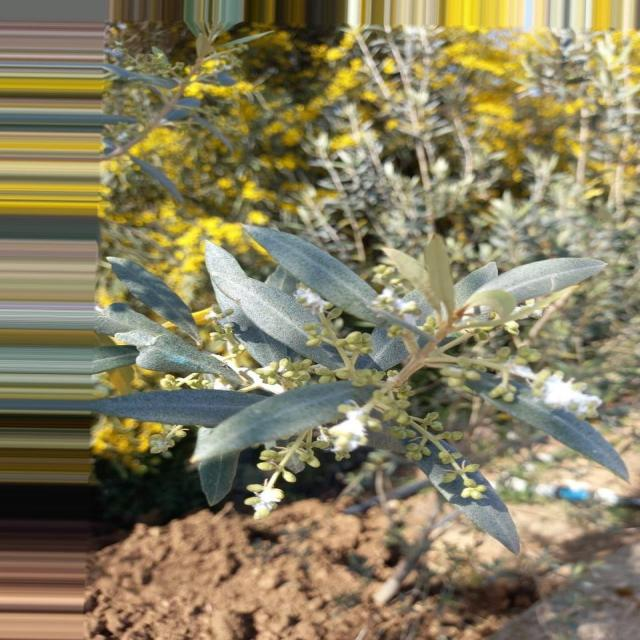Psyllid: (512, 366, 602, 419), (321, 398, 381, 460), (244, 474, 284, 519)
